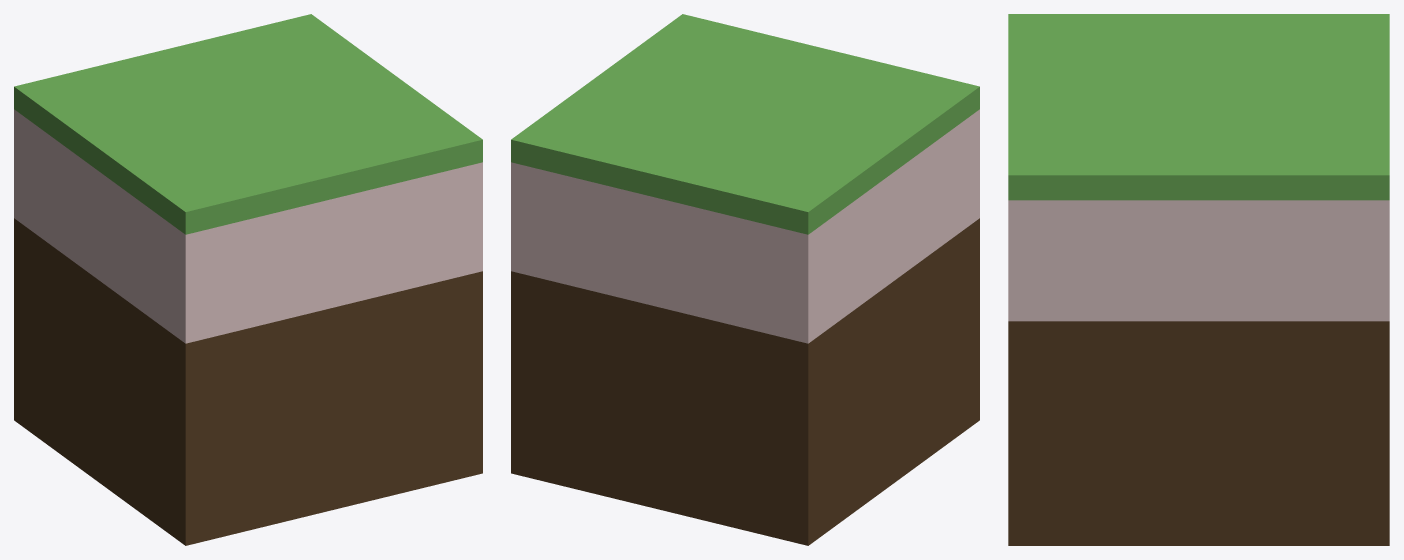
The model's file is Environment grassblock.fbx.
3 views of the same model, side by side, from view 1: azimuth 30°, elevation 25°; view 2: azimuth 150°, elevation 25°; view 3: azimuth 270°, elevation 25° (orthographic). The views are drawn at different scales.
Visible parts, largest first — view 1: Glass; view 2: Glass; view 3: Glass.
Part boxes in pixels (<box>): Glass: <box>14,14,482,545</box>; Glass: <box>511,14,979,545</box>; Glass: <box>1008,14,1389,545</box>.
Bounding box in the file's own units: 200 × 215 × 200.
